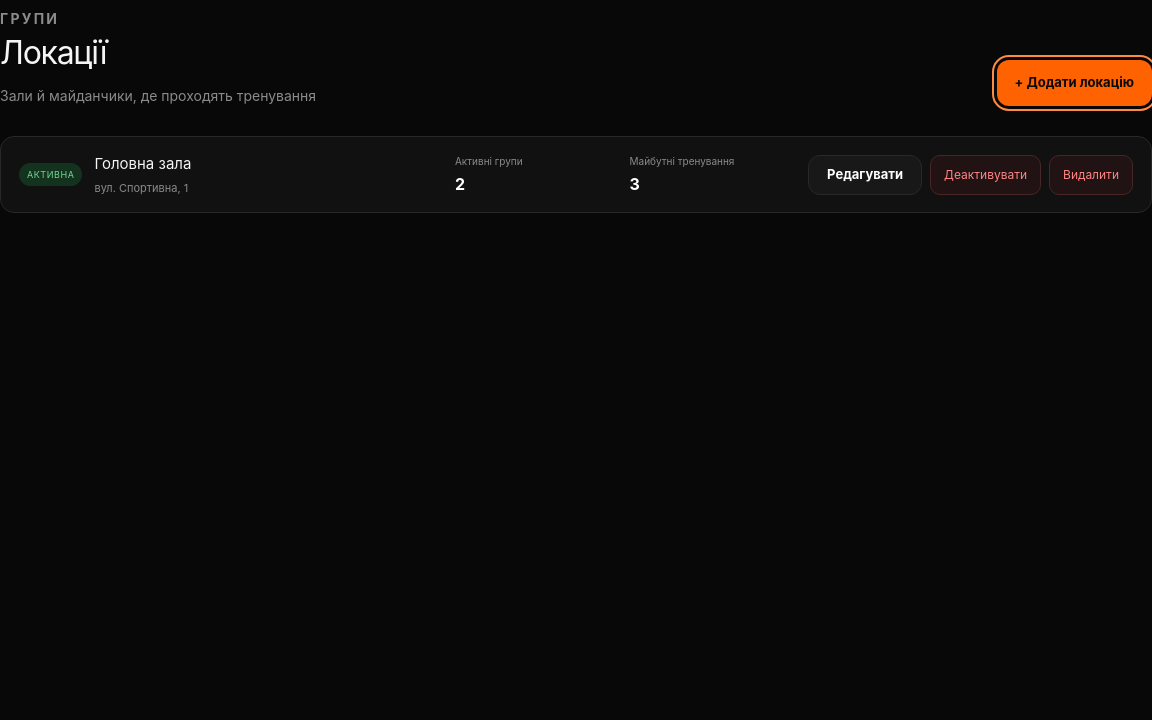
Test: LocationManager › opens the create modal, closes on Escape and restores focus
Click the button "+ Додати локацію" at (1074, 83), box [996,60,1151,106]
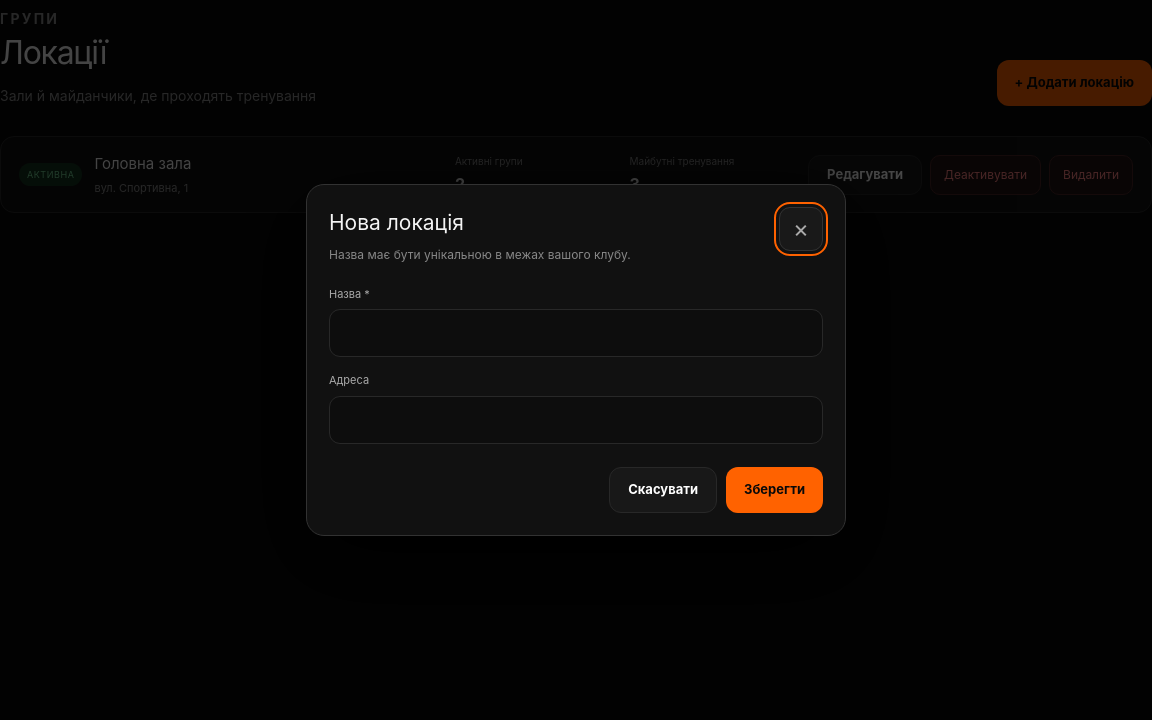
Check: the dialog "Нова локація" is shown, box [306,184,846,536]
Press Escape
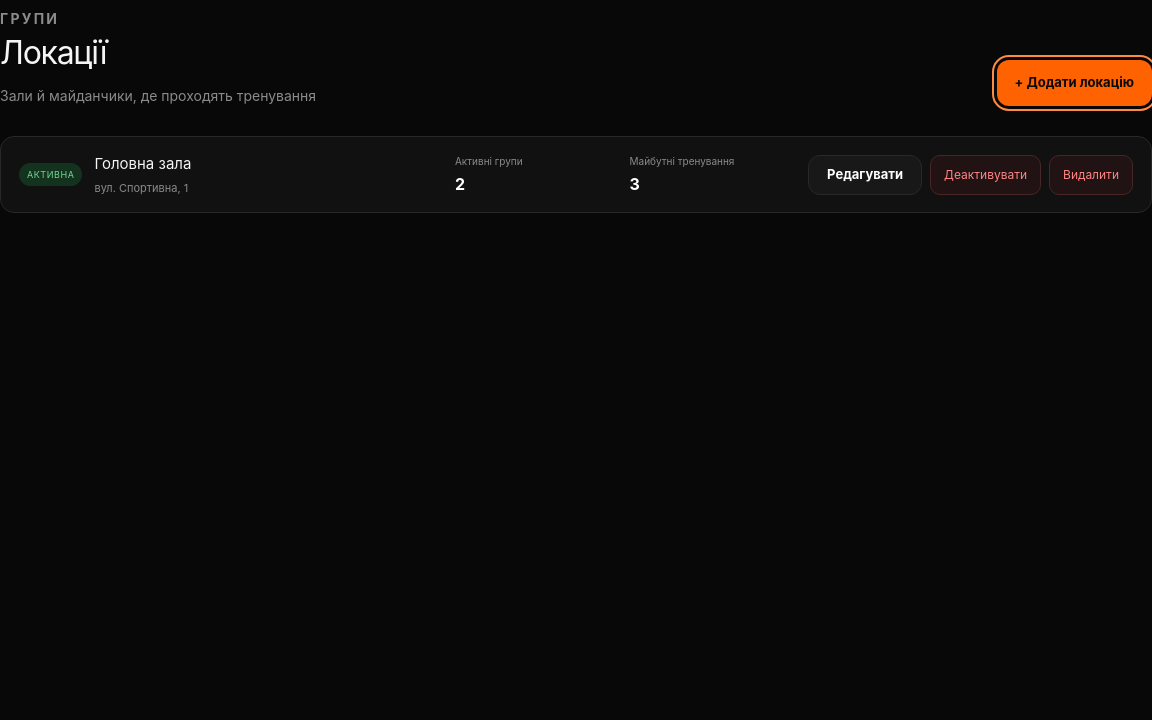
Check: the dialog is gone
